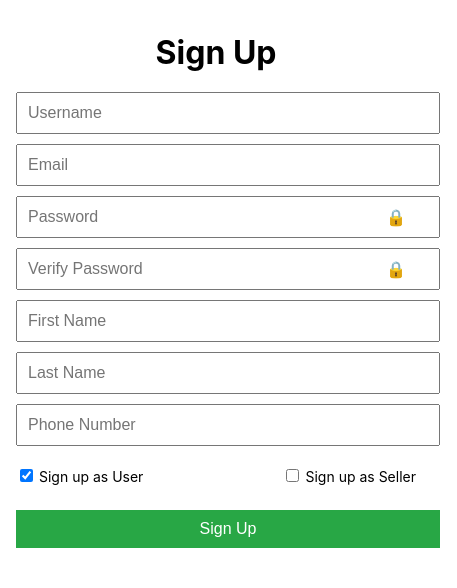
Test case: SignUpScreen › shows error for invalid email format
Type "invalid-email" into the field with placeholder "Email" at (228, 165), box [16,144,440,186]
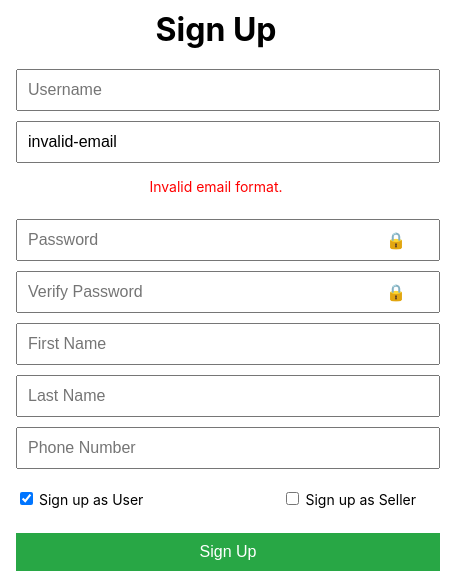
Expected: the text "Invalid email format." is shown, [149,178,283,195]
